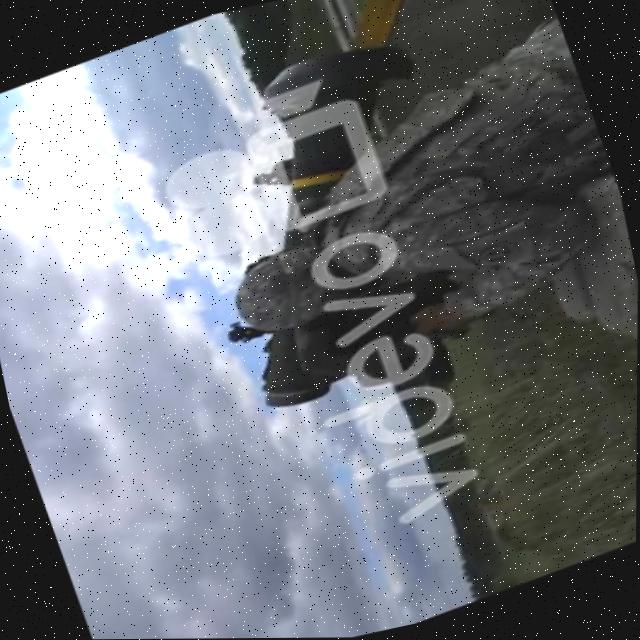rocket: (147, 21, 508, 428)
